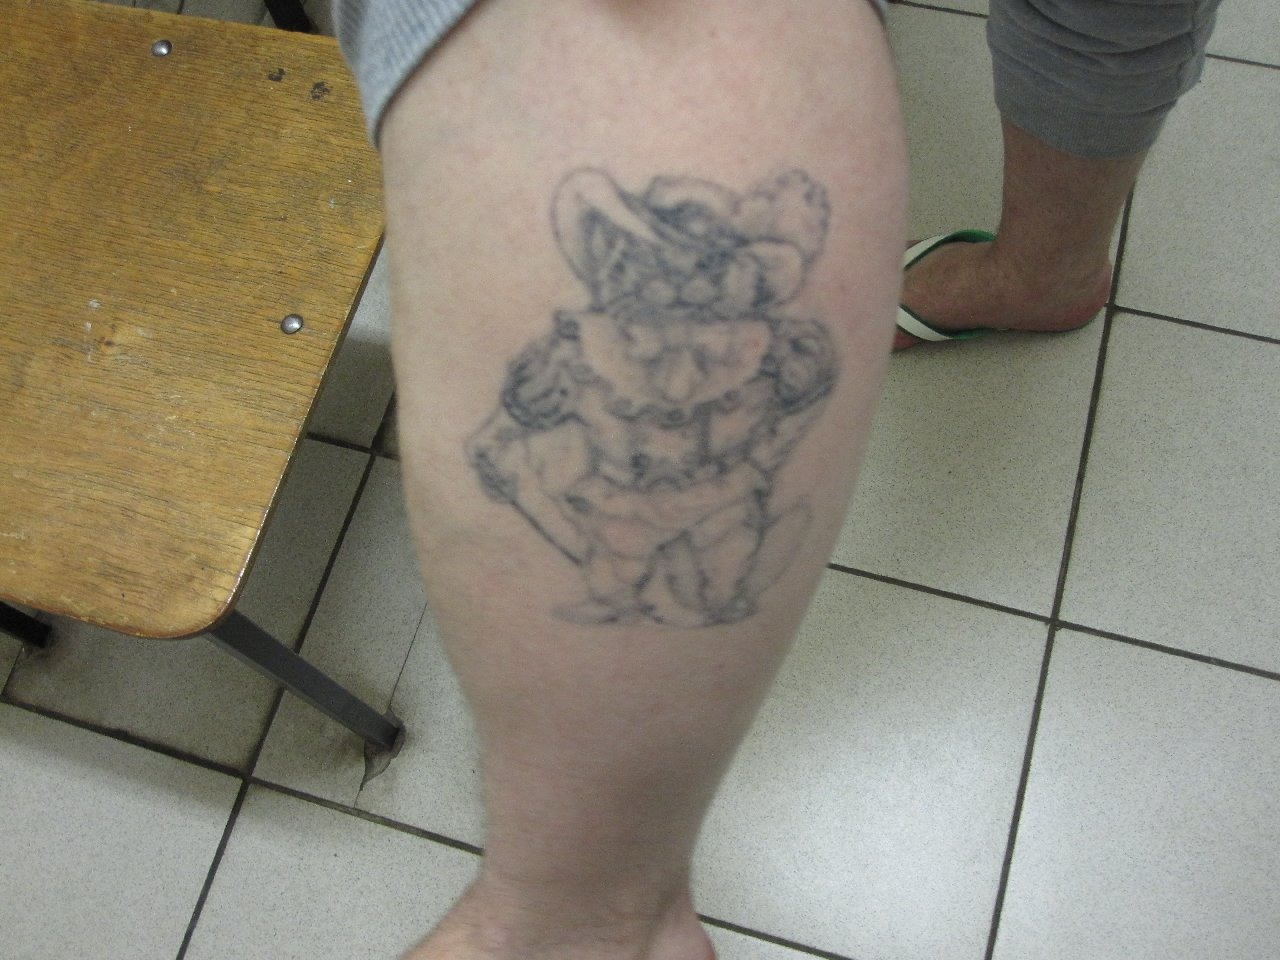tatu8_kot: (463, 158, 849, 637)
